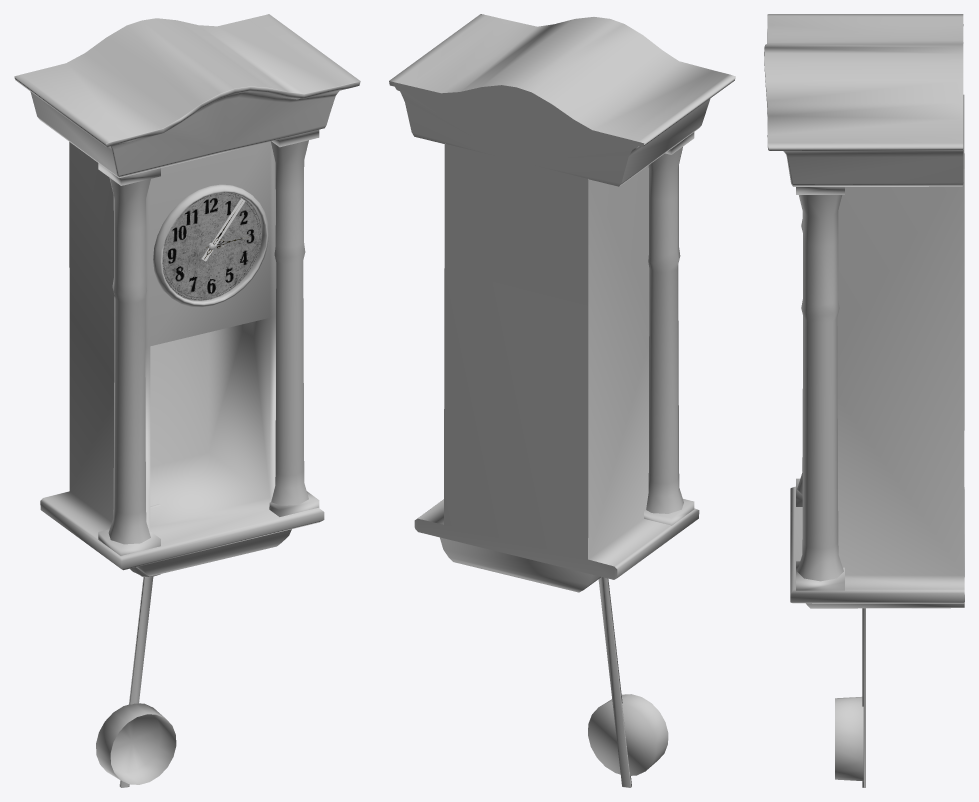
File: WatchSecret.dae
The picture shows the model from 3 angles, left to right: view 1: azimuth 30°, elevation 25°; view 2: azimuth 150°, elevation 25°; view 3: azimuth 270°, elevation 25°; orthographic projection. The views are drawn at different scales.
Visible parts, largest first — view 1: wall_clock, wall_clock_pendulum; view 2: wall_clock, wall_clock_pendulum; view 3: wall_clock, wall_clock_pendulum.
Boxes of the visible parts, x1=… form: wall_clock: x1=14, y1=14, x2=360, y2=576; wall_clock_pendulum: x1=96, y1=577, x2=176, y2=787; wall_clock: x1=389, y1=14, x2=735, y2=592; wall_clock_pendulum: x1=588, y1=577, x2=668, y2=787; wall_clock: x1=764, y1=14, x2=964, y2=608; wall_clock_pendulum: x1=835, y1=608, x2=865, y2=787.
Size of the model in its own units: 0.2988 by 0.1911 by 0.8038.
